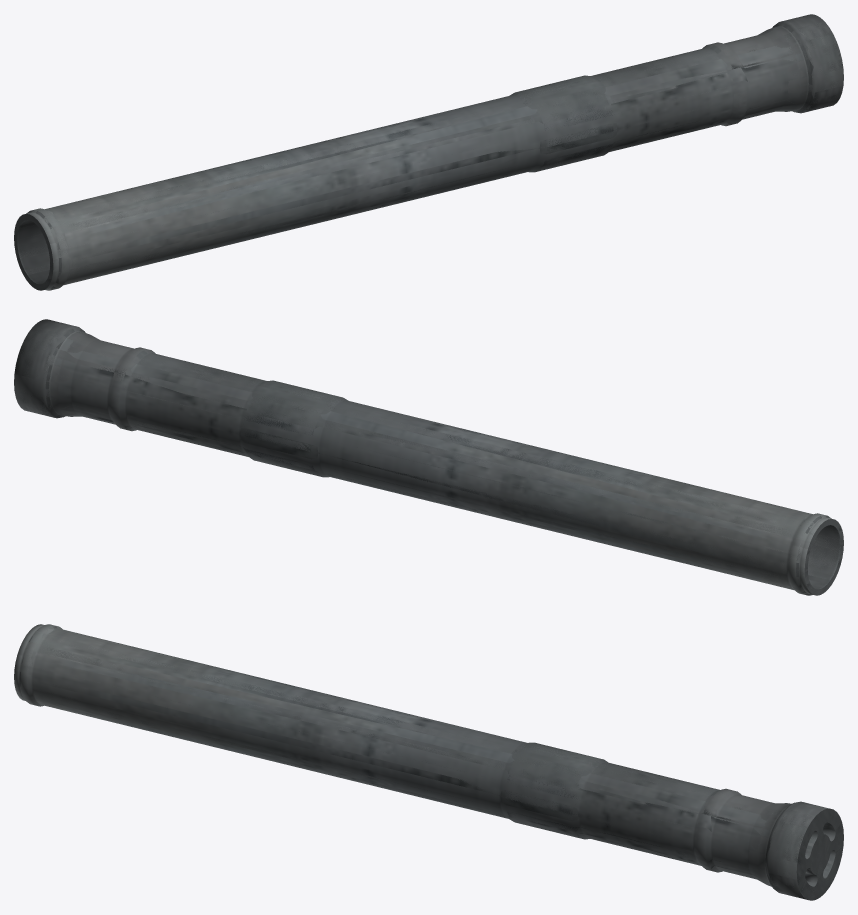
The model's file is 100mmRecoilless.obj.
The picture shows the model from 3 angles, top to bottom: view 1: azimuth 30°, elevation 25°; view 2: azimuth 150°, elevation 25°; view 3: azimuth 330°, elevation 25°; orthographic projection.
Parts seen in each view (by area): view 1: 100mmRecoilless_円柱; view 2: 100mmRecoilless_円柱; view 3: 100mmRecoilless_円柱.
Boxes of the visible parts, x1,y1,x2,y2 form: 100mmRecoilless_円柱: [14, 14, 843, 290]; 100mmRecoilless_円柱: [14, 319, 843, 595]; 100mmRecoilless_円柱: [14, 624, 843, 900].
Bounding box in the file's own units: 2.76 × 0.287 × 0.287.
